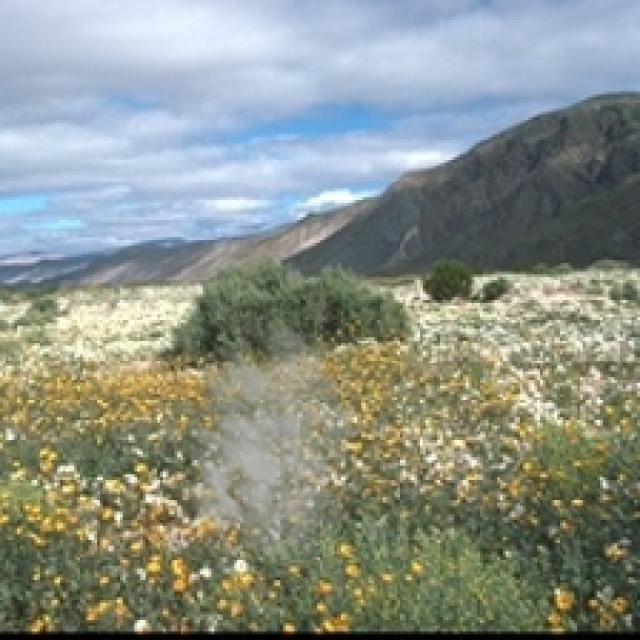Smoke: (151, 308, 363, 578)
